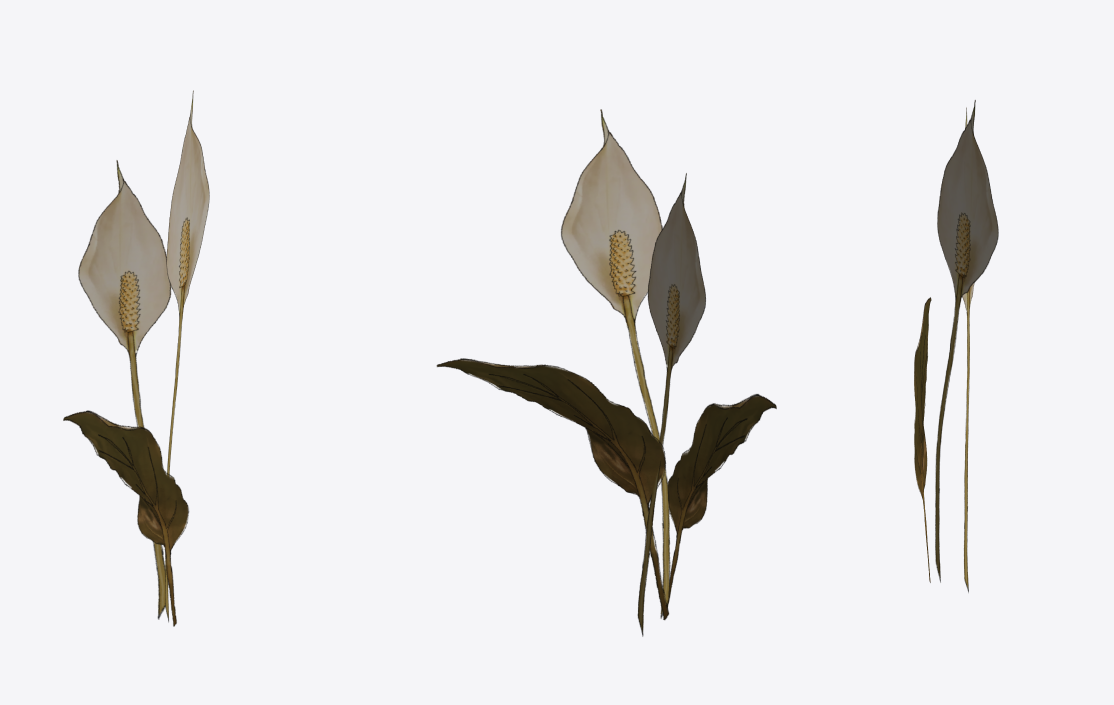
File: flower.glb
The picture shows the model from 3 angles, left to right: view 1: azimuth 30°, elevation 25°; view 2: azimuth 150°, elevation 25°; view 3: azimuth 270°, elevation 25°; orthographic projection.
Parts seen in each view (by area): view 1: FlowerRight, LeafRight, FlowerLeft; view 2: FlowerLeft, LeafLeft, FlowerRight, LeafRight; view 3: FlowerLeft, LeafRight, FlowerRight.
Part boxes in pixels (bbox=[...]): FlowerRight: bbox=[78, 160, 171, 619]; LeafRight: bbox=[63, 410, 188, 626]; FlowerLeft: bbox=[165, 90, 209, 622]; FlowerLeft: bbox=[561, 109, 670, 618]; LeafLeft: bbox=[436, 358, 668, 620]; FlowerRight: bbox=[637, 173, 705, 636]; LeafRight: bbox=[666, 394, 776, 608]; FlowerLeft: bbox=[935, 100, 998, 582]; LeafRight: bbox=[914, 297, 931, 582]; FlowerRight: bbox=[962, 107, 974, 592].
Size of the model in its own units: 0.5337 by 0.891 by 0.4028.
Materials: 4 (4 with a texture image).
